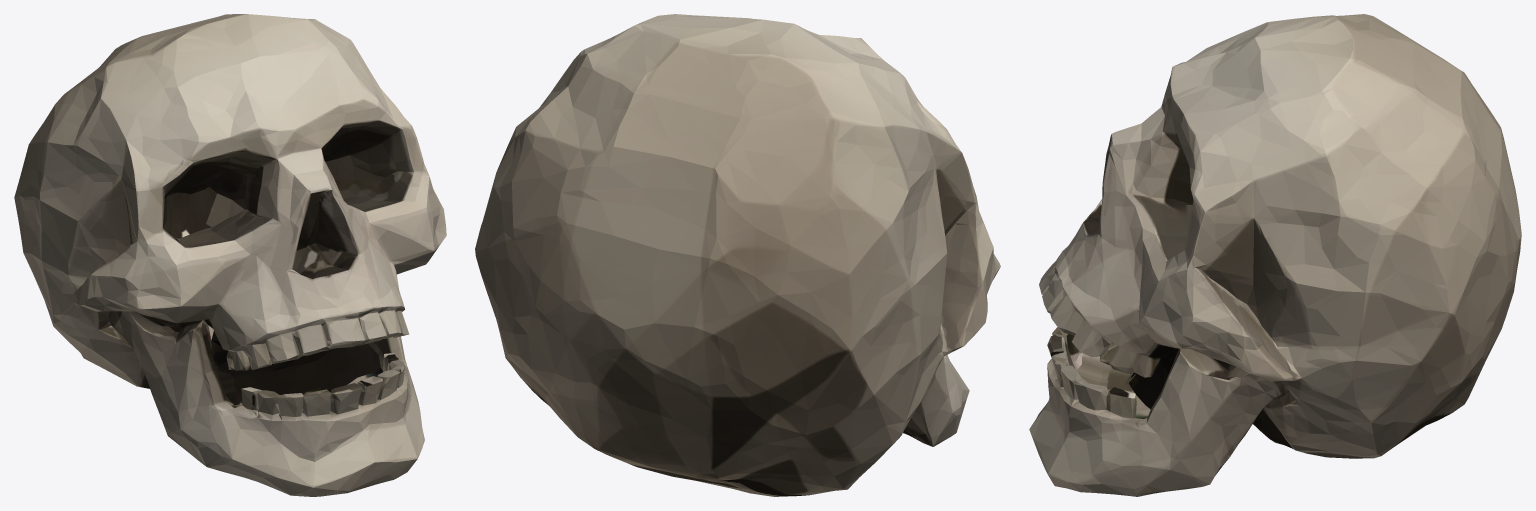
Rendered from skullforhalloween.glb.
3 renders of one model, left to right at view 1: azimuth 30°, elevation 25°; view 2: azimuth 150°, elevation 25°; view 3: azimuth 270°, elevation 25°, orthographic. The views are drawn at different scales.
Visible parts, largest first — view 1: tmpa8eeclj8.ply; view 2: tmpa8eeclj8.ply; view 3: tmpa8eeclj8.ply.
Part boxes in pixels (bbox=[...]): tmpa8eeclj8.ply: bbox=[14, 14, 446, 496]; tmpa8eeclj8.ply: bbox=[475, 14, 1000, 496]; tmpa8eeclj8.ply: bbox=[1029, 14, 1521, 496].
Bounding box in the file's own units: 1.81 × 1.86 × 1.99.
1 material, 1 textured.
